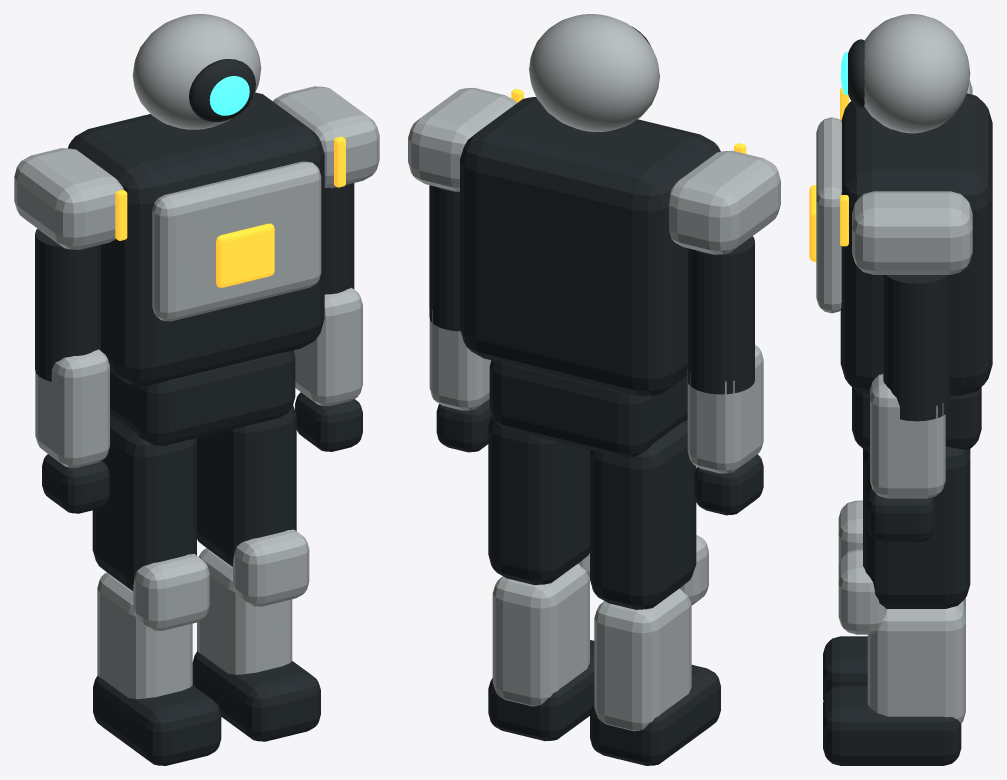
File: Sentinel_FormProxy_v0.1.fbx
The picture shows the model from 3 angles, left to right: view 1: azimuth 30°, elevation 25°; view 2: azimuth 150°, elevation 25°; view 3: azimuth 270°, elevation 25°; orthographic projection.
Visible parts, largest first — view 1: SV01_Torso, SV01_ChestPlate, SV01_Thigh_-1, SV01_Thigh_1, SV01_Pelvis, SV01_Head, SV01_Shoulder_-1, SV01_Shin_-1, SV01_UpperArm_-1, SV01_Foot_-1, SV01_Forearm_-1, SV01_Foot_1 (+12 smaller); view 2: SV01_Torso, SV01_Thigh_-1, SV01_Thigh_1, SV01_Head, SV01_Pelvis, SV01_Shin_-1, SV01_Shin_1, SV01_UpperArm_-1, SV01_Shoulder_-1, SV01_Forearm_-1, SV01_Shoulder_1, SV01_Foot_-1 (+6 smaller); view 3: SV01_Torso, SV01_Head, SV01_Shin_1, SV01_Thigh_1, SV01_Shoulder_1, SV01_UpperArm_1, SV01_Foot_1, SV01_Forearm_1, SV01_ChestPlate, SV01_Hand_1, SV01_Knee_1, SV01_Pelvis (+5 smaller).
Part boxes in pixels (box(x1,y1,x2,y2)): SV01_Torso: box(68, 92, 324, 385); SV01_ChestPlate: box(152, 161, 321, 321); SV01_Thigh_-1: box(92, 414, 196, 591); SV01_Thigh_1: box(196, 405, 296, 566); SV01_Pelvis: box(110, 350, 295, 445); SV01_Head: box(132, 14, 261, 129); SV01_Shoulder_-1: box(14, 148, 123, 249); SV01_Shin_-1: box(97, 572, 192, 698); SV01_UpperArm_-1: box(35, 228, 100, 381); SV01_Foot_-1: box(93, 675, 221, 765); SV01_Forearm_-1: box(35, 349, 109, 467); SV01_Foot_1: box(192, 651, 320, 741); SV01_Torso: box(460, 97, 720, 396); SV01_Thigh_-1: box(590, 420, 696, 609); SV01_Thigh_1: box(488, 416, 590, 584); SV01_Head: box(529, 14, 659, 131); SV01_Pelvis: box(489, 360, 687, 457); SV01_Shin_-1: box(594, 588, 691, 731); SV01_Shin_1: box(492, 564, 589, 706); SV01_UpperArm_-1: box(687, 236, 754, 394); SV01_Shoulder_-1: box(669, 150, 780, 254); SV01_Forearm_-1: box(687, 345, 763, 473); SV01_Shoulder_1: box(408, 87, 516, 191); SV01_Foot_-1: box(590, 665, 720, 765); SV01_Torso: box(840, 93, 992, 395); SV01_Head: box(864, 14, 970, 133); SV01_Shin_1: box(867, 601, 965, 723); SV01_Thigh_1: box(863, 446, 970, 608); SV01_Shoulder_1: box(852, 191, 972, 274); SV01_UpperArm_1: box(883, 275, 950, 421); SV01_Foot_1: box(823, 685, 961, 765); SV01_Forearm_1: box(870, 374, 945, 498); SV01_ChestPlate: box(816, 117, 841, 313); SV01_Hand_1: box(867, 488, 934, 542); SV01_Knee_1: box(838, 549, 886, 634); SV01_Pelvis: box(852, 387, 981, 450).
Bounding box in the file's own units: 84 × 175 × 41.05.
